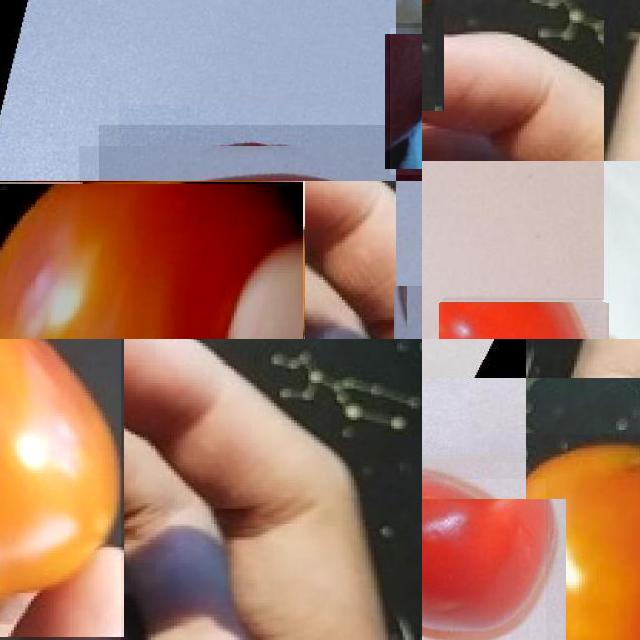0: (0, 181, 303, 339), (526, 434, 640, 640), (422, 479, 546, 640)
1: (390, 28, 422, 175)
Fresh Tomato: (0, 339, 121, 640), (440, 300, 606, 339)
